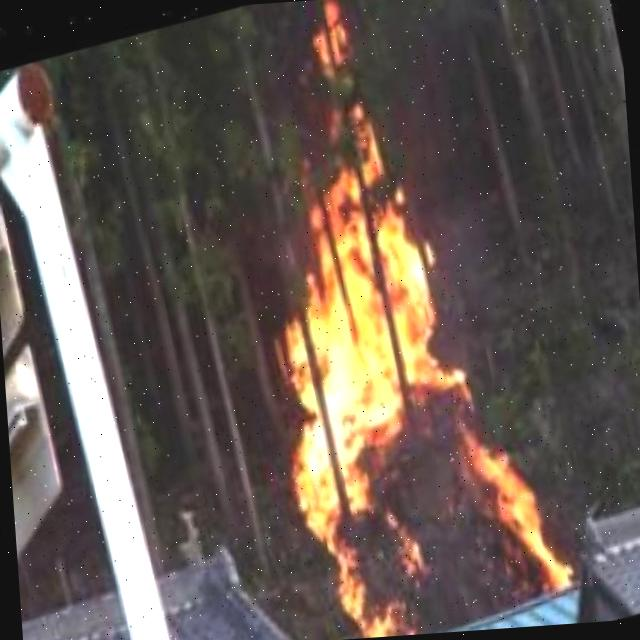fire: (194, 99, 586, 640)
